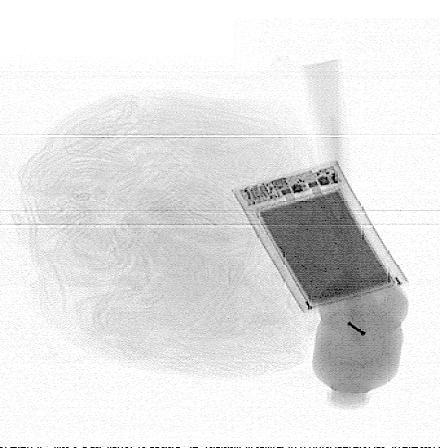Powerbank: (230, 161, 408, 313)
